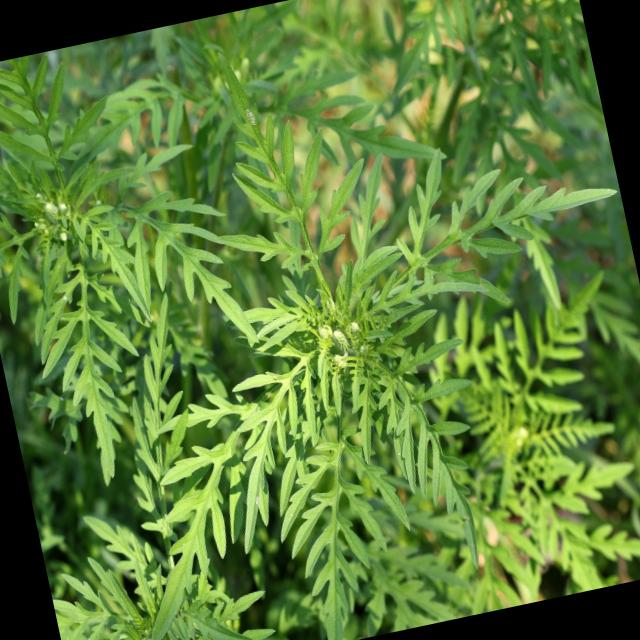ambrosia: (188, 104, 524, 552), (0, 58, 244, 417)
